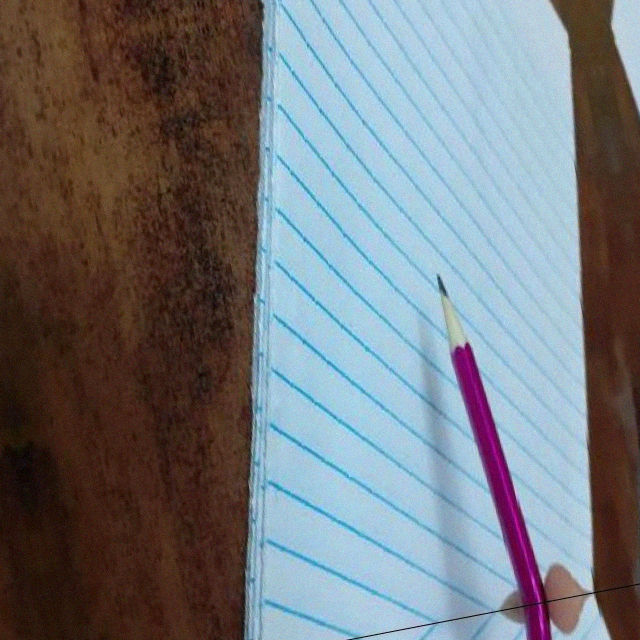pencil: (428, 267, 475, 351)
